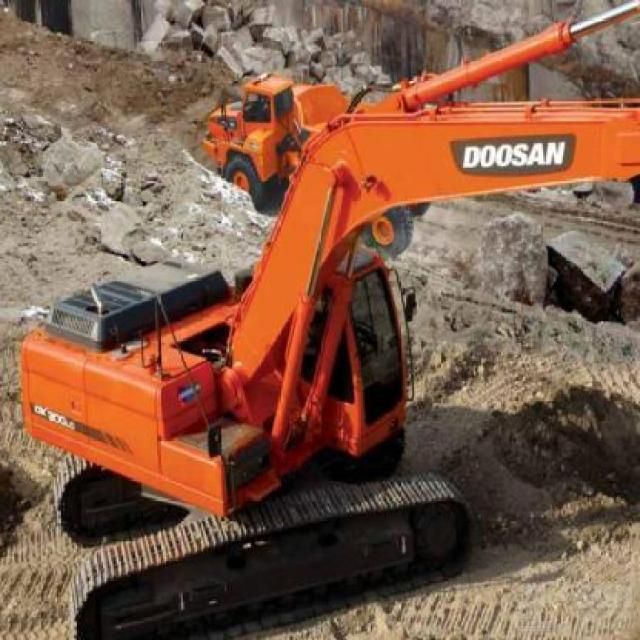dump_truck: (201, 68, 345, 206)
excavator: (12, 81, 636, 636)
